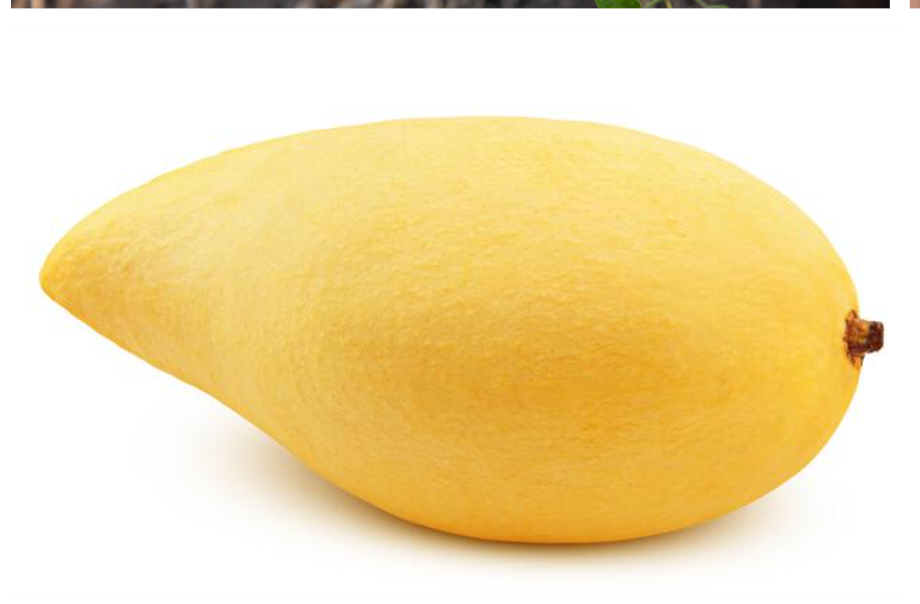mango: (42, 110, 868, 553)
